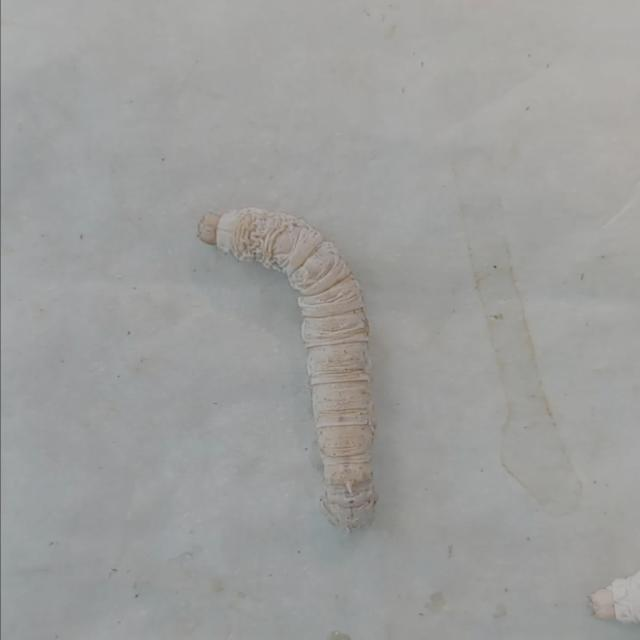Grasserie: (181, 182, 400, 544)
